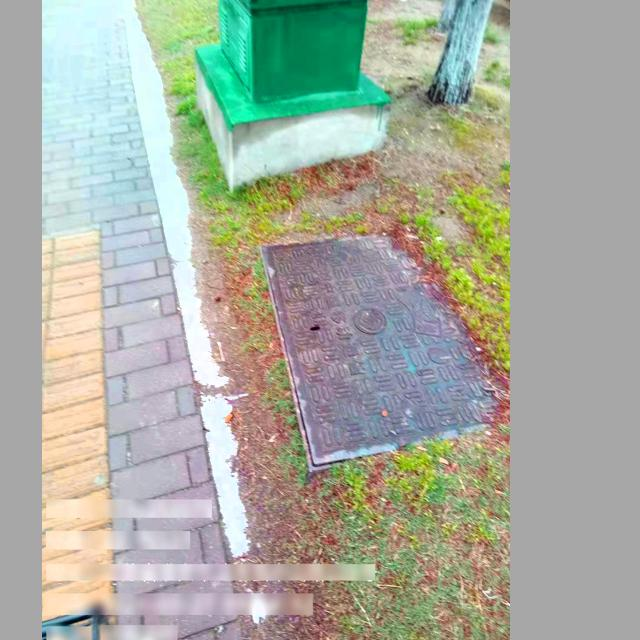good: (258, 235, 497, 470)
